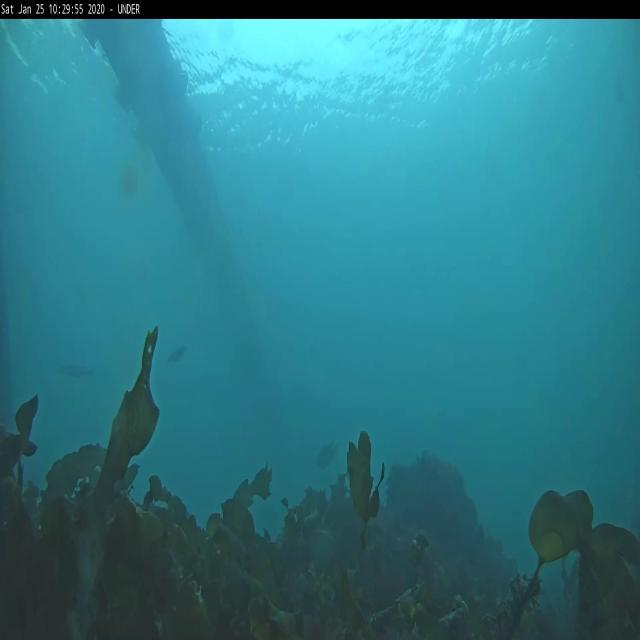fish: (58, 352, 96, 386), (170, 340, 188, 362)
